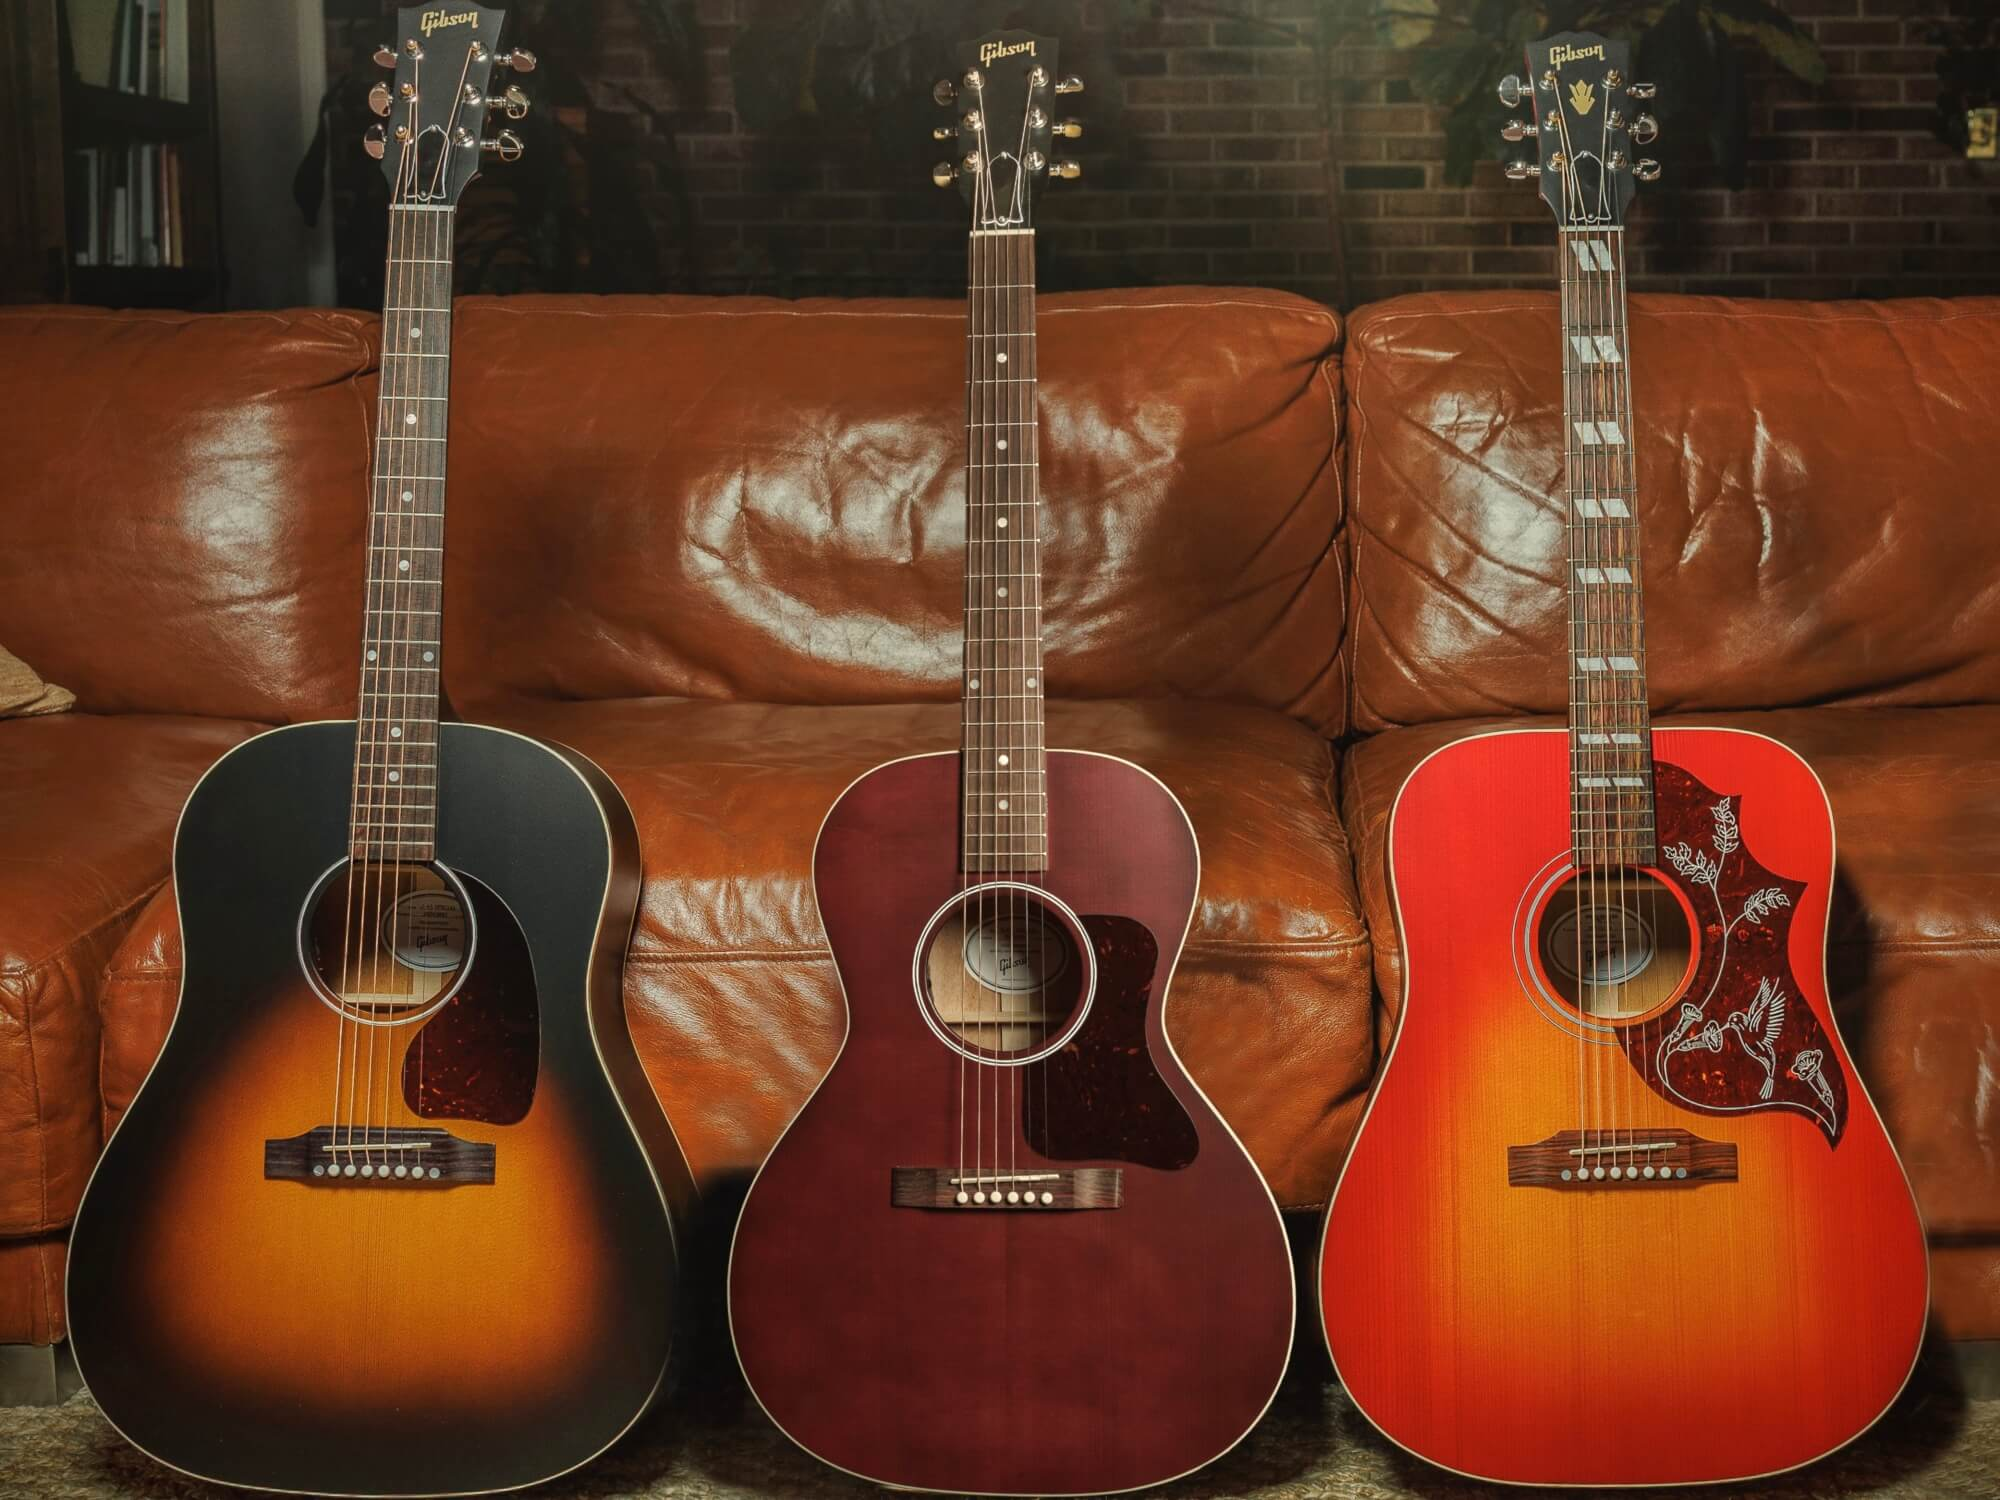guitar: (5, 19, 1964, 1500), (61, 0, 687, 1500), (1317, 24, 1940, 1498), (718, 27, 1309, 1500), (236, 6, 611, 1472)
